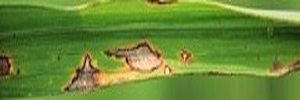RiceBlast: (59, 36, 199, 94), (264, 54, 300, 76), (1, 52, 20, 77)
